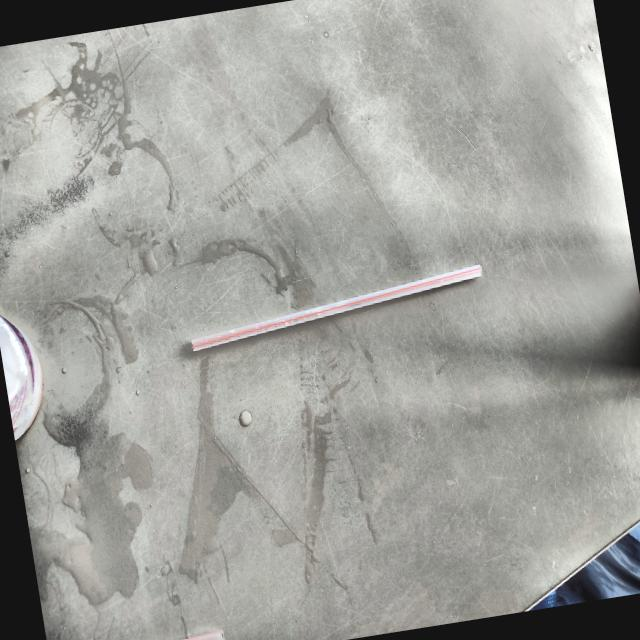plastic straw: (192, 264, 482, 352)
